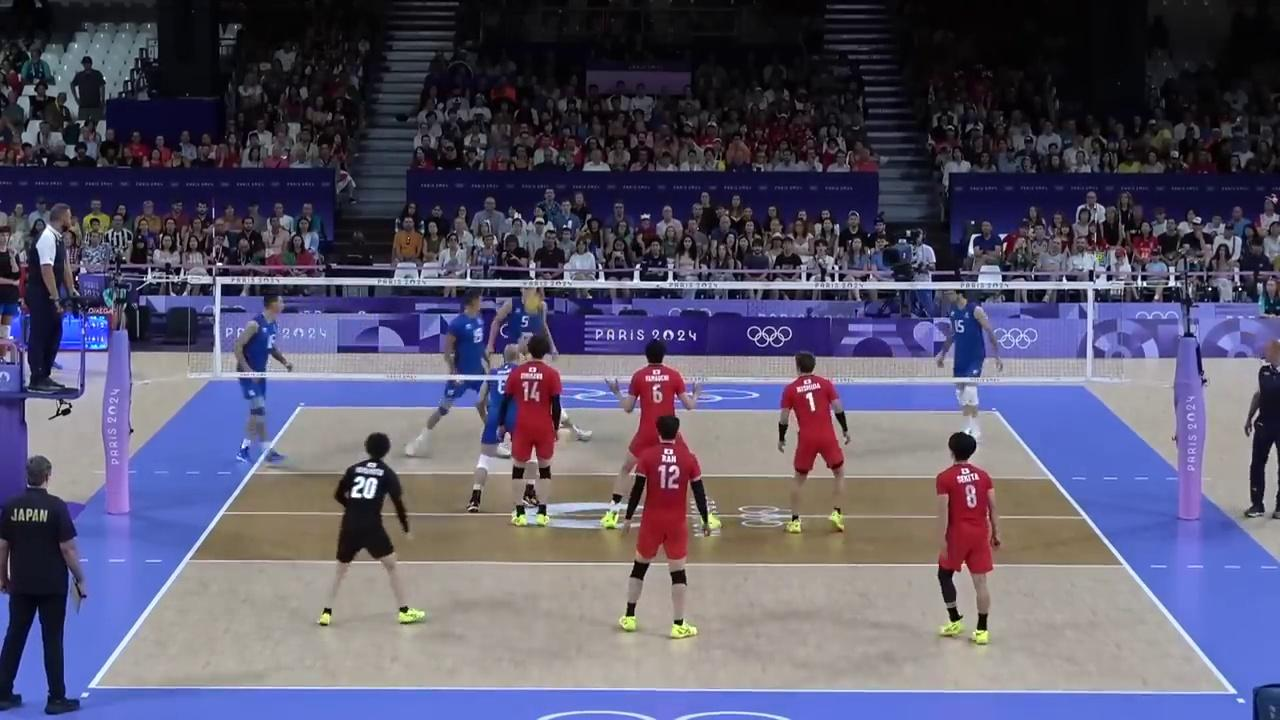ball: (522, 289, 542, 313)
